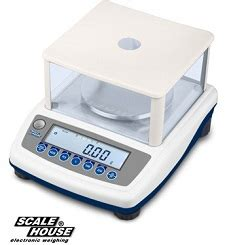Industrial Scale: (8, 1, 220, 222)
